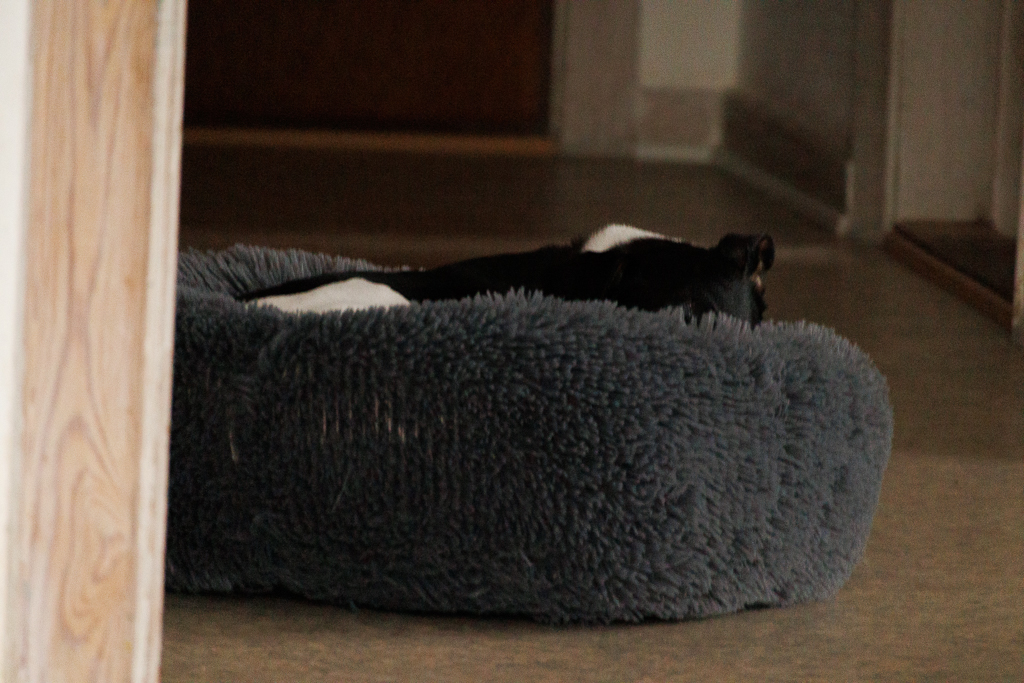Dog: (217, 191, 806, 340)
